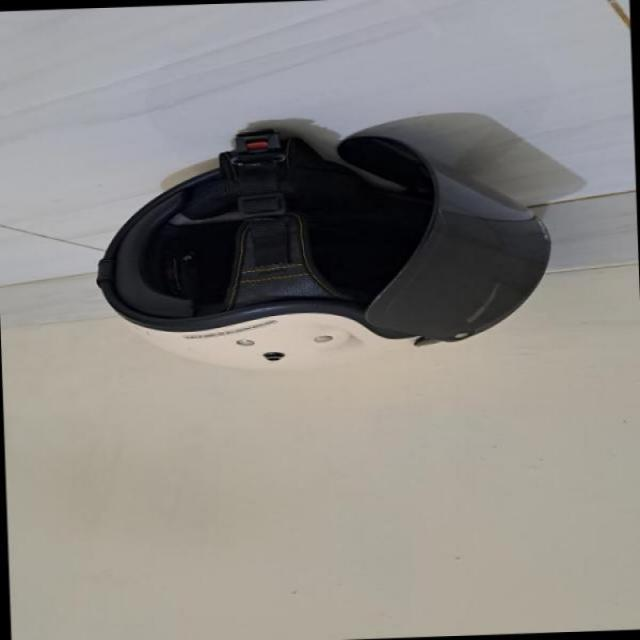Helmet: (89, 113, 552, 382)
